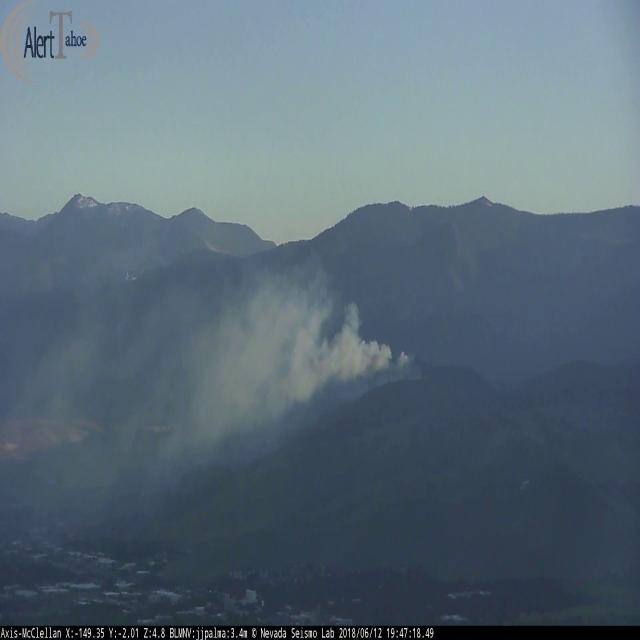smoke: (0, 231, 415, 503)
